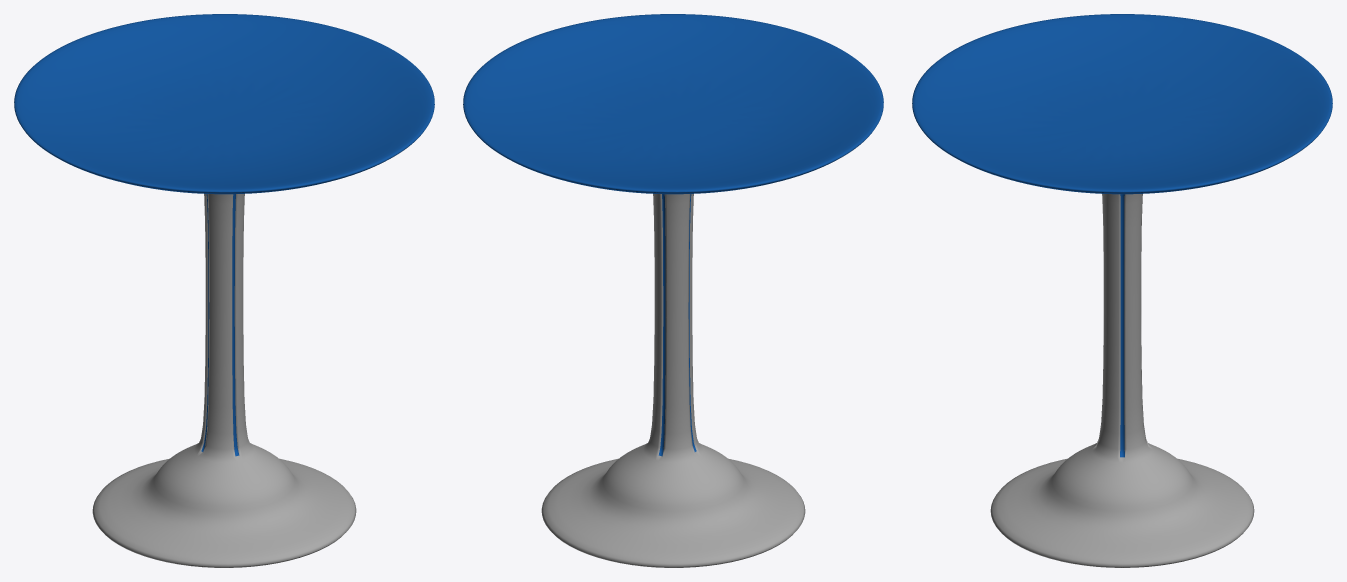
File: Futuristic Table.obj
3 views of the same model, side by side, from view 1: azimuth 30°, elevation 25°; view 2: azimuth 150°, elevation 25°; view 3: azimuth 270°, elevation 25° (orthographic).
Parts seen in each view (by area): view 1: Cylinder_Cylinder.001, Cylinder.001_Cylinder.004; view 2: Cylinder_Cylinder.001, Cylinder.001_Cylinder.004; view 3: Cylinder_Cylinder.001, Cylinder.001_Cylinder.004.
Boxes of the visible parts, x1,y1,x2,y2 form: Cylinder_Cylinder.001: (14,14,434,194); Cylinder.001_Cylinder.004: (92,194,356,567); Cylinder_Cylinder.001: (463,14,883,194); Cylinder.001_Cylinder.004: (541,194,805,567); Cylinder_Cylinder.001: (912,14,1332,194); Cylinder.001_Cylinder.004: (990,194,1254,567).
Size of the model in its own units: 2.87 by 3.12 by 2.87.
